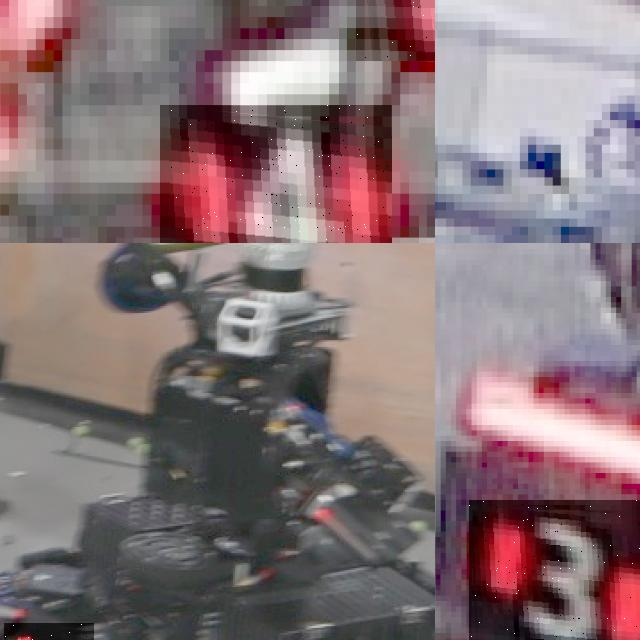R3: (468, 499, 640, 640)
R4: (160, 105, 391, 243)
